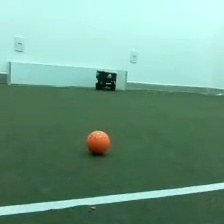ball: (84, 126, 112, 158)
goal: (7, 59, 128, 93)
robot: (93, 68, 119, 92)
